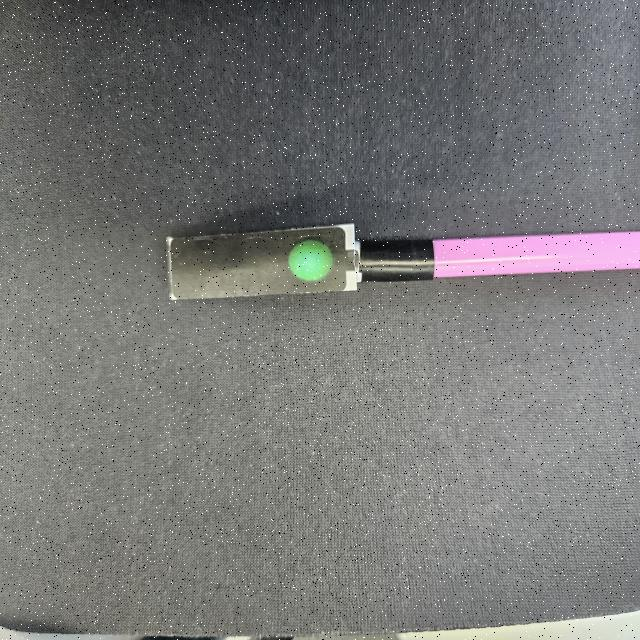traffic light: (166, 225, 361, 302)
